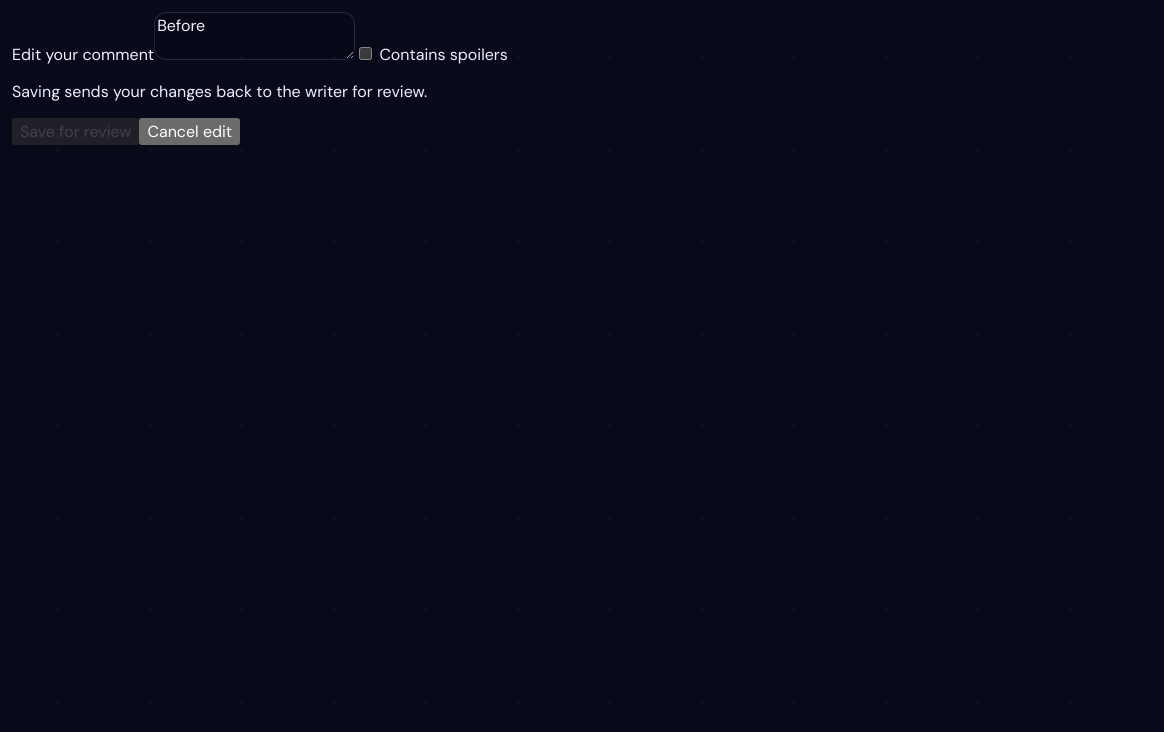
Test: retains the edited text on a stale moderation result
Replace the text in the text box labelled "Edit your comment" with "Revised" at (255, 36), box [154,12,355,60]
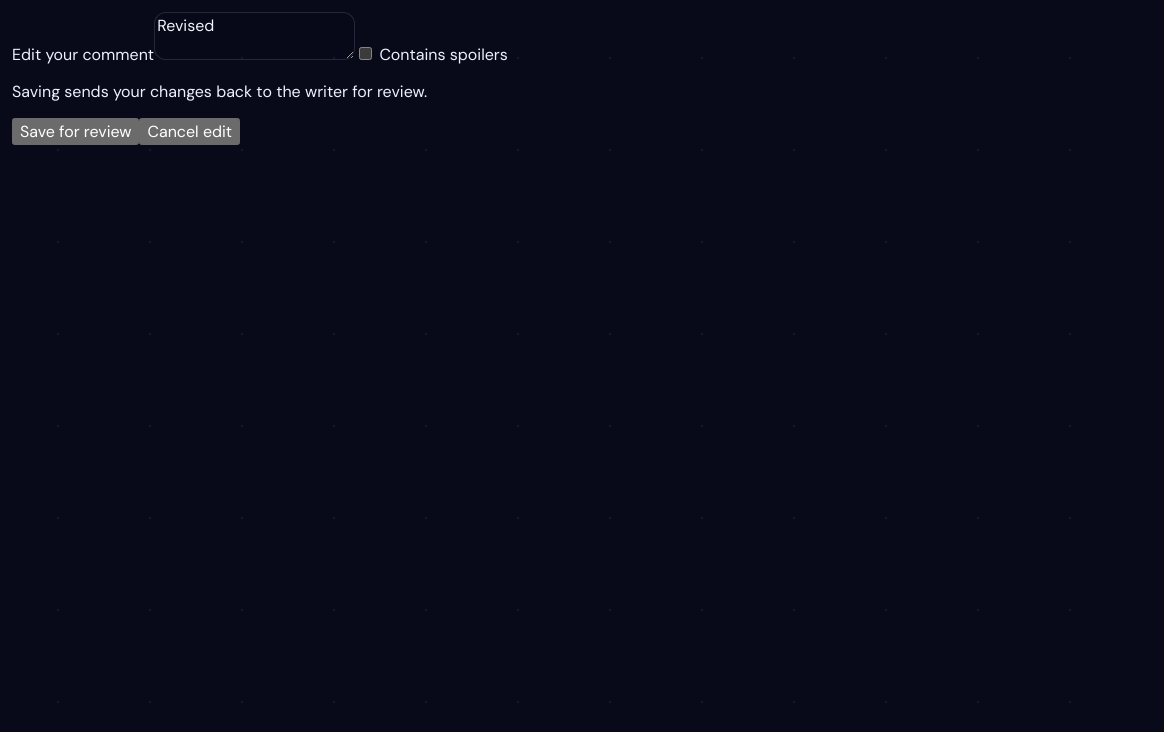
Click the button "Save for review" at (76, 132), box [12,118,140,145]
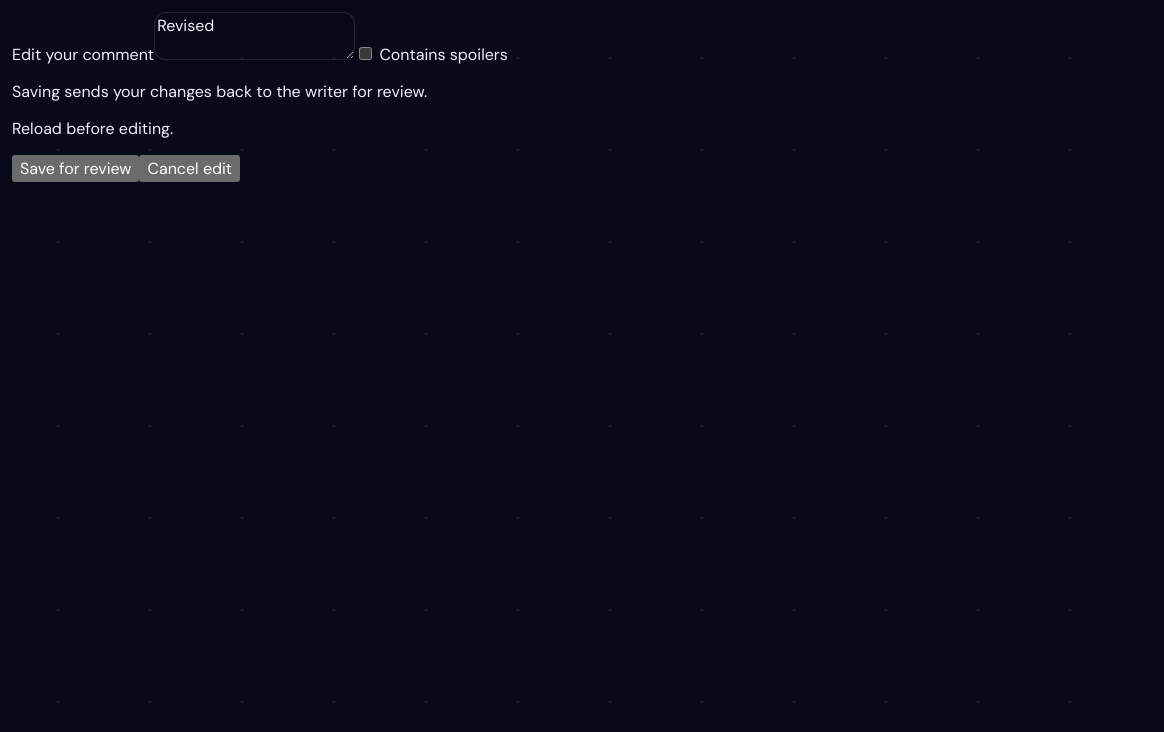
Result: the message shows "Reload" at [12,118,173,139]
